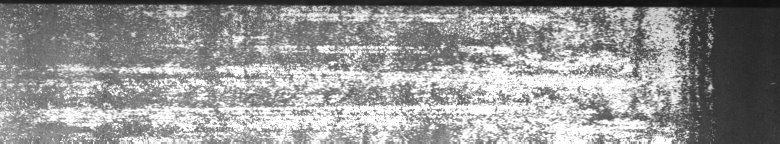kb: (4, 4, 715, 136)
